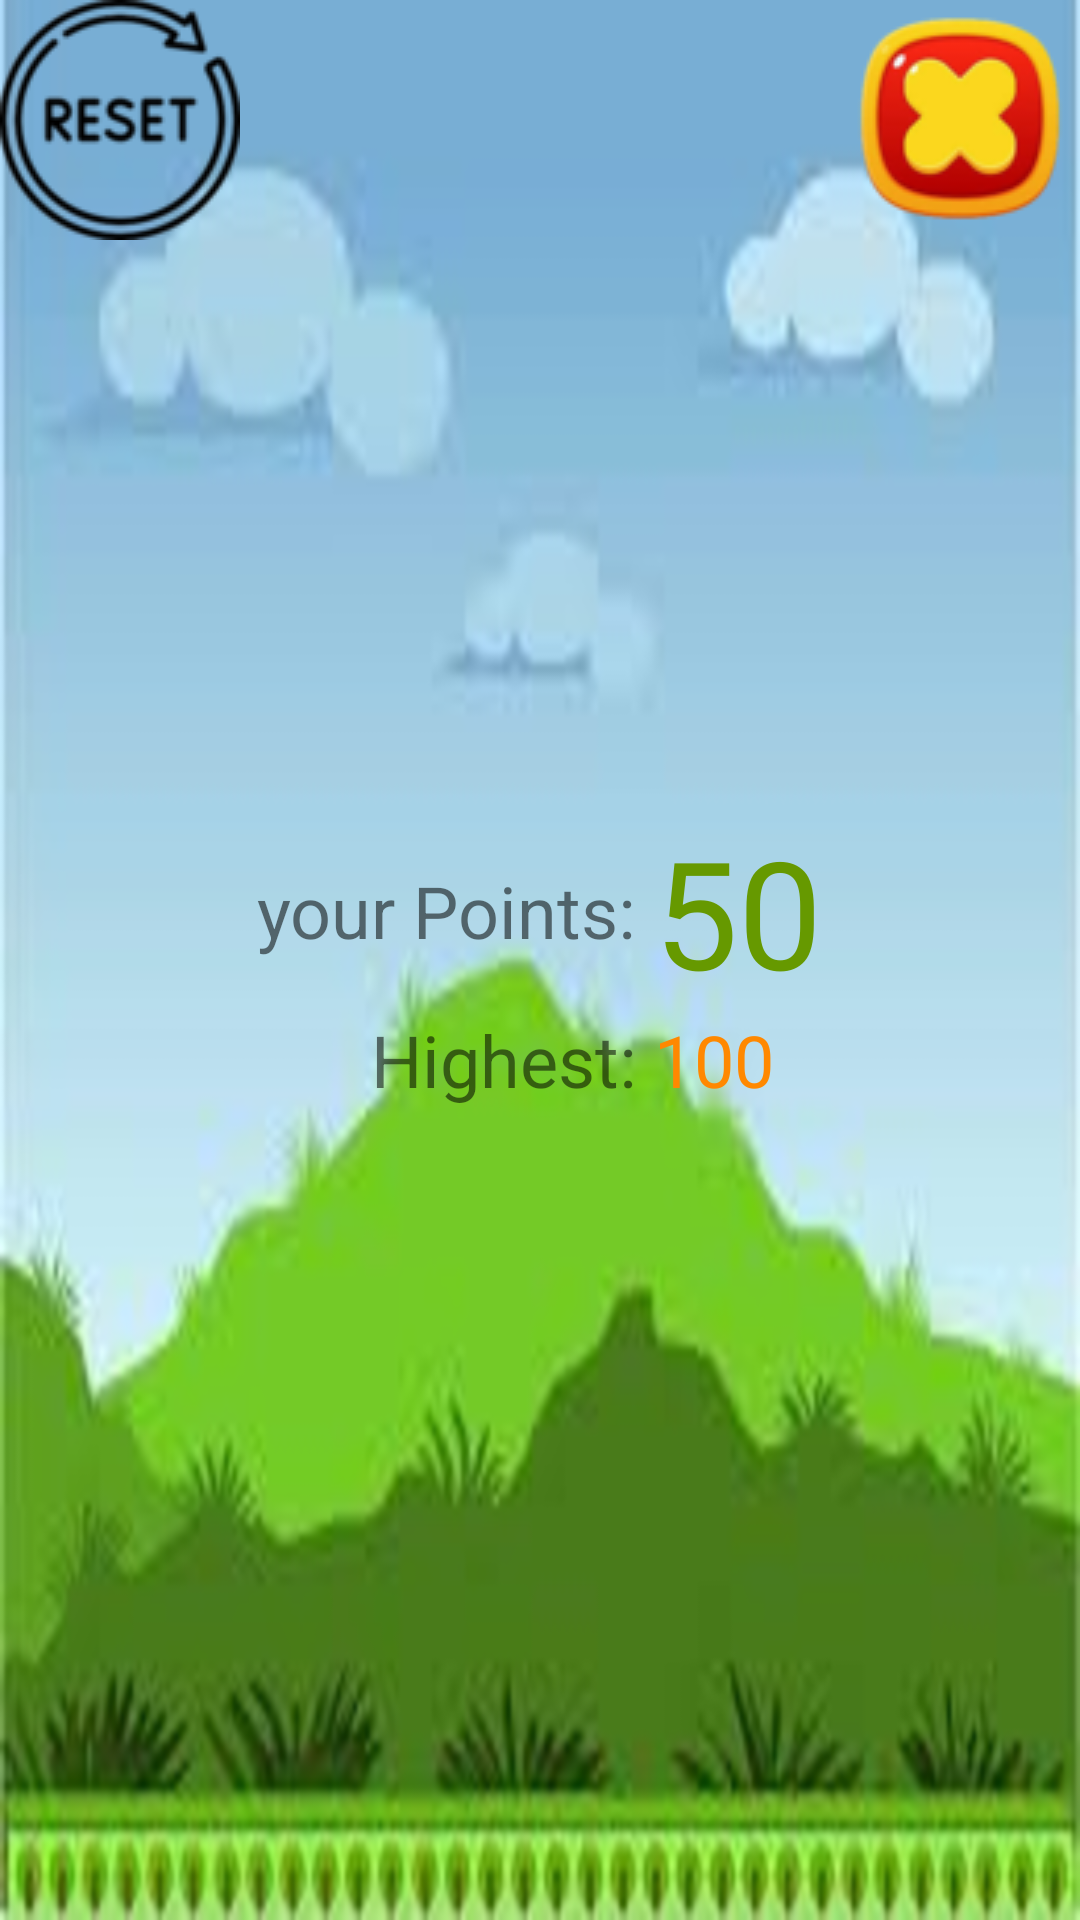

Screen size 1080x1920. Icon name, then its center in pixels as (x=x, y=y):
exit: (x=960, y=118)
